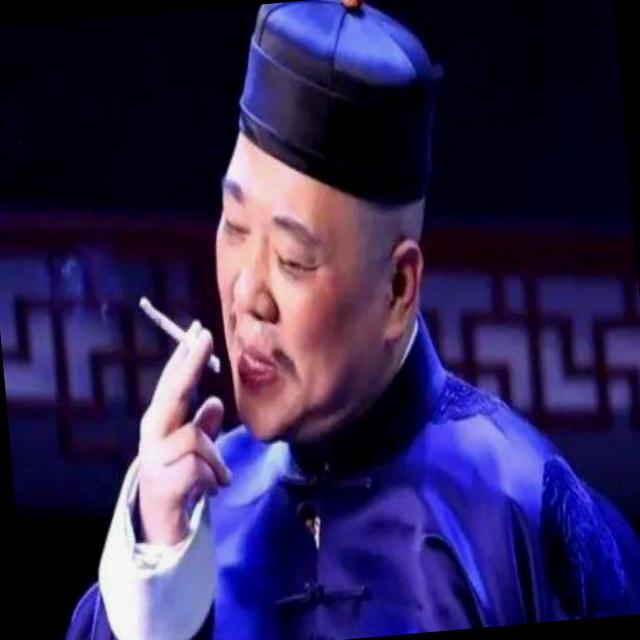smoke: (135, 289, 184, 344)
